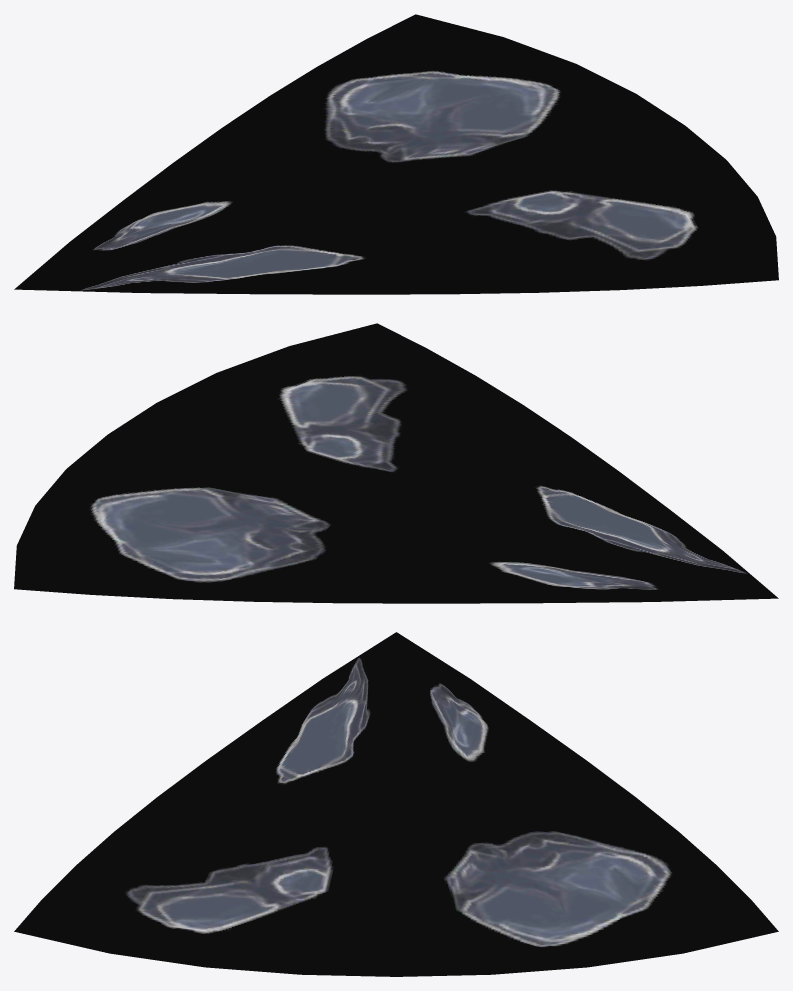
Rendered from 0141_S_FX_xiaohuolong_01.glb.
The picture shows the model from 3 angles, top to bottom: view 1: azimuth 30°, elevation 25°; view 2: azimuth 150°, elevation 25°; view 3: azimuth 270°, elevation 25°; orthographic projection. The views are drawn at different scales.
Bounding box in the file's own units: 2.2 × 1.26e-16 × 2.06.
Materials: 1 (1 with a texture image).
